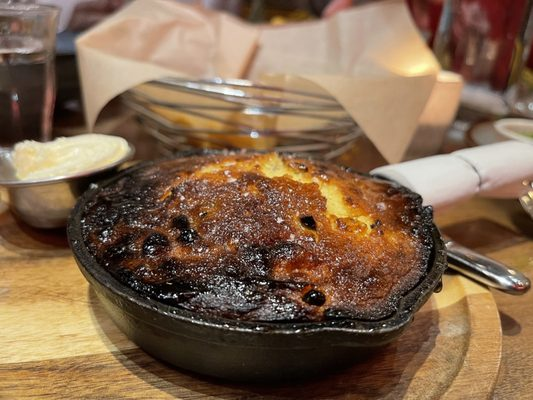pizza: (0, 2, 60, 146)
sushi: (63, 152, 444, 385), (0, 134, 137, 230)
